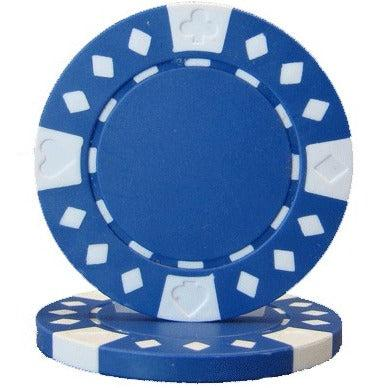chip-blue: (36, 5, 352, 380)
